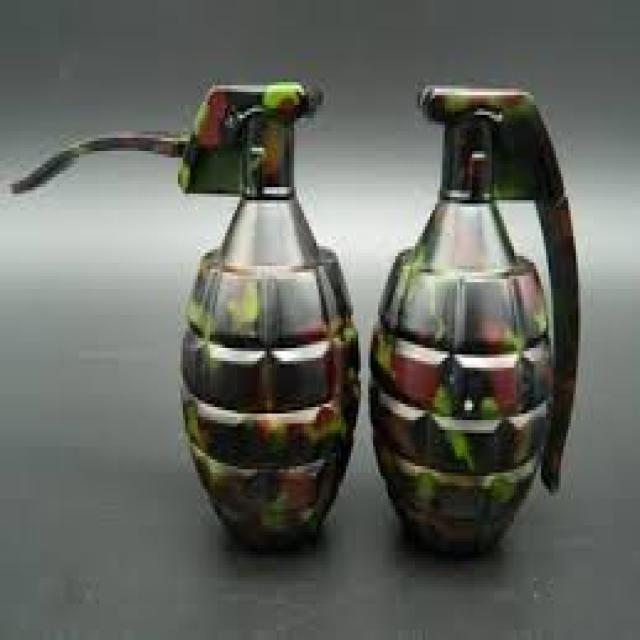grenade: (2, 79, 367, 554), (367, 76, 587, 554)
